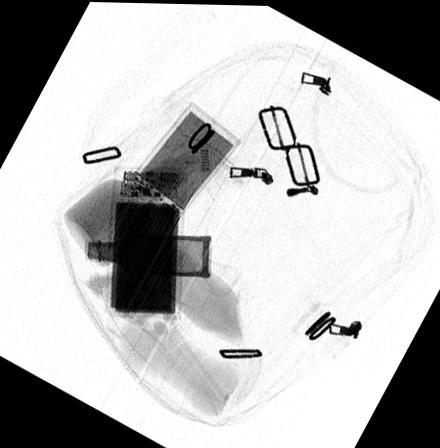Powerbank: (122, 100, 241, 225), (105, 166, 185, 321)
